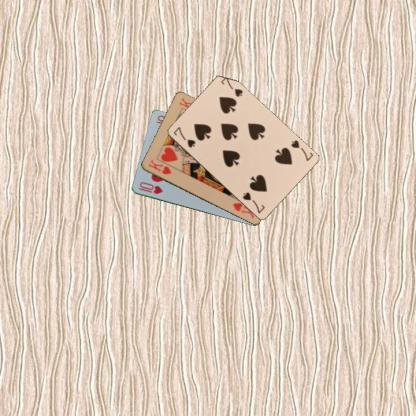10h: (136, 180, 163, 195)
7s: (170, 124, 196, 149), (288, 138, 314, 162)
Kh: (146, 157, 172, 176)
